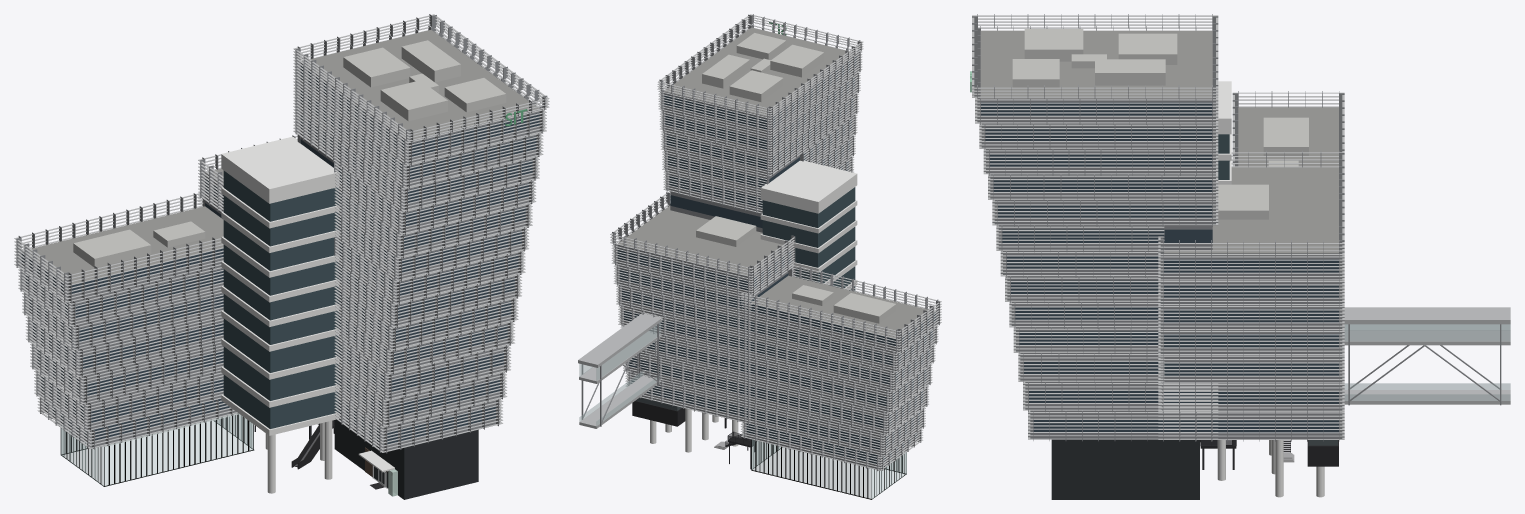
The model's file is headquarters_exterior.fbx.
3 renders of one model, left to right at view 1: azimuth 30°, elevation 25°; view 2: azimuth 150°, elevation 25°; view 3: azimuth 270°, elevation 25°, orthographic. The views are drawn at different scales.
Visible parts, largest first — view 1: 本部棟_本体, 本部棟_ルーバー, 本部棟_屋上設備, 平面.001, 一階壁, 本部棟_ピロティ, 本部棟_入口; view 2: 本部棟_ルーバー, 本部棟_本体, 本部棟_屋上設備, 本部棟_渡り廊下, 平面.002, 本部棟_ピロティ, 一階壁; view 3: 本部棟_本体, 本部棟_ルーバー, 本部棟_屋上設備, 本部棟_渡り廊下, 本部棟_ピロティ.
Part boxes in pixels (<box>): 本部棟_本体: <box>21,30,539,499</box>; 本部棟_ルーバー: <box>14,14,549,453</box>; 本部棟_屋上設備: <box>73,40,506,267</box>; 平面.001: <box>103,413,253,486</box>; 一階壁: <box>61,425,104,486</box>; 本部棟_ピロティ: <box>267,420,334,493</box>; 本部棟_入口: <box>358,447,397,496</box>; 本部棟_ルーバー: <box>610,14,941,471</box>; 本部棟_本体: <box>617,27,935,468</box>; 本部棟_屋上設備: <box>696,33,896,323</box>; 本部棟_渡り廊下: <box>578,313,662,428</box>; 平面.002: <box>751,439,871,499</box>; 本部棟_ピロティ: <box>632,397,726,428</box>; 一階壁: <box>871,451,906,499</box>; 本部棟_本体: <box>980,30,1338,499</box>; 本部棟_ルーバー: <box>972,14,1344,441</box>; 本部棟_屋上設備: <box>1012,29,1308,219</box>; 本部棟_渡り廊下: <box>1344,307,1510,405</box>; 本部棟_ピロティ: <box>1200,440,1338,480</box>.
Bounding box in the file's own units: 67.33 × 72.04 × 81.93.
